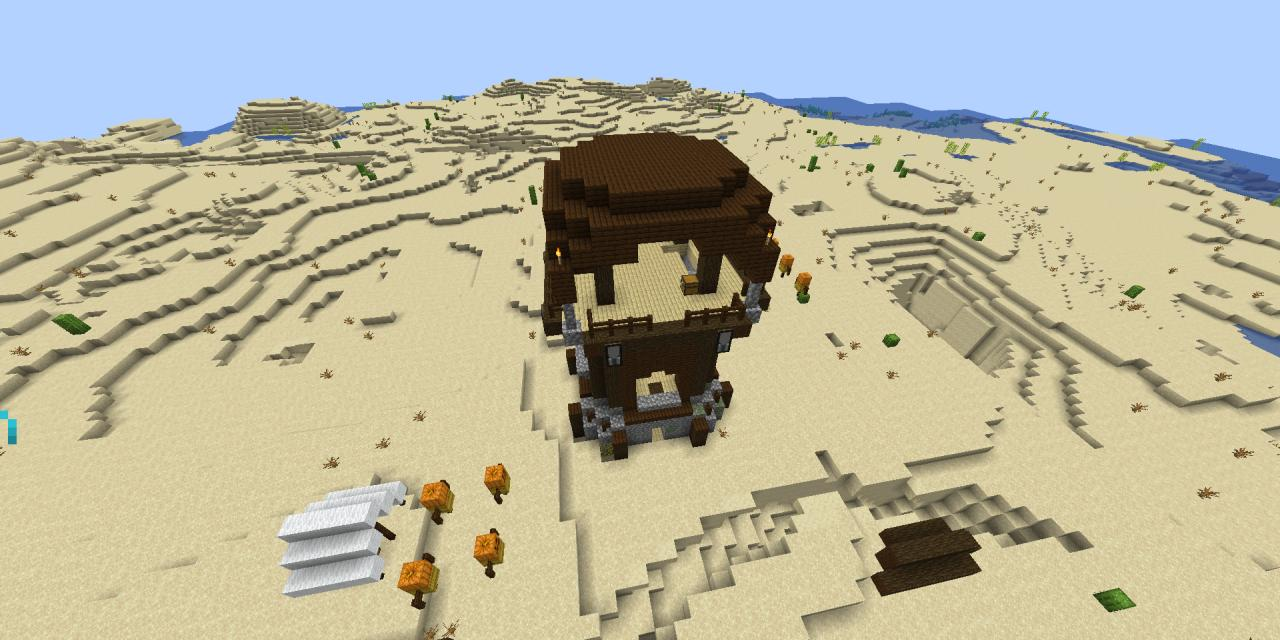pillager outpost: (525, 125, 789, 470)
